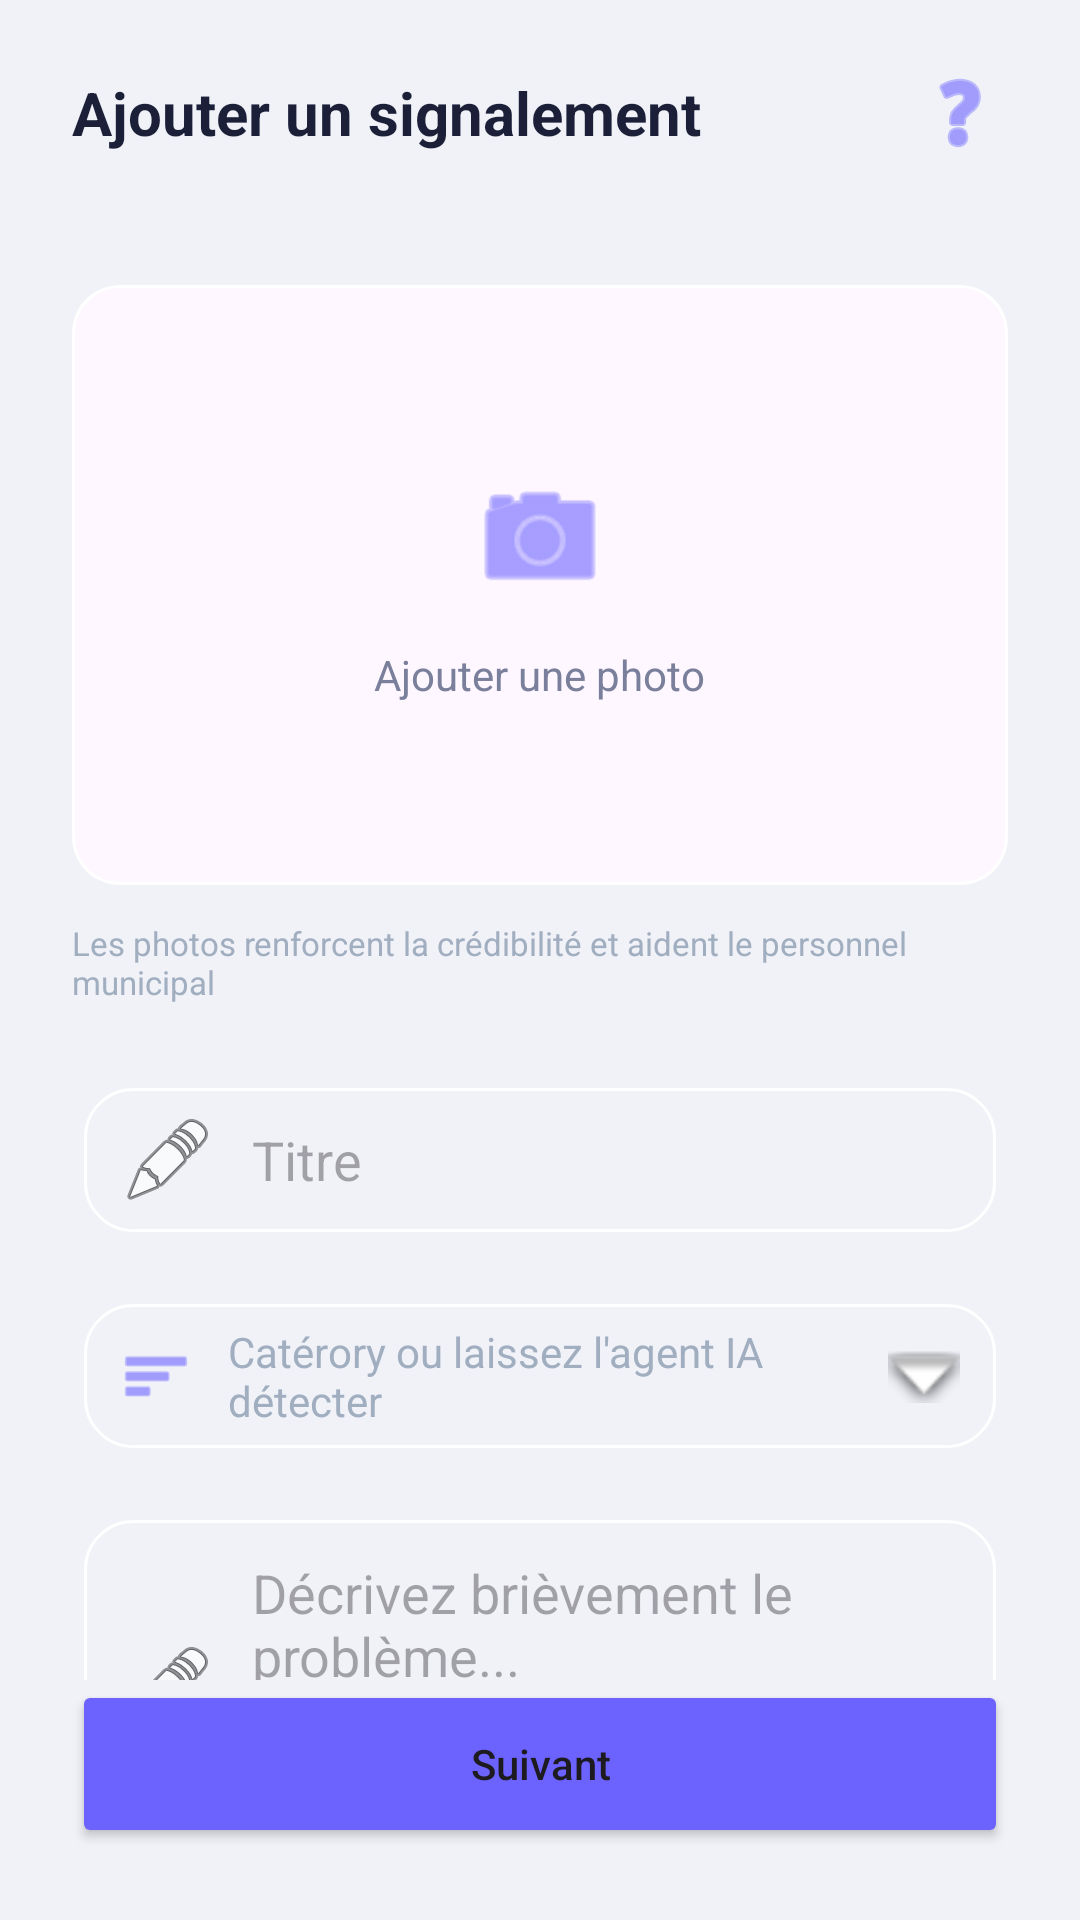

Locate icon controls on the screen. Image size 1080px×1920px, boxes as region(x1, y1, x2, y2).
arrow down float: region(888, 1352, 960, 1401)
camera: region(485, 492, 595, 580)
help: region(939, 79, 981, 147)
sort by size: region(125, 1356, 187, 1396)
